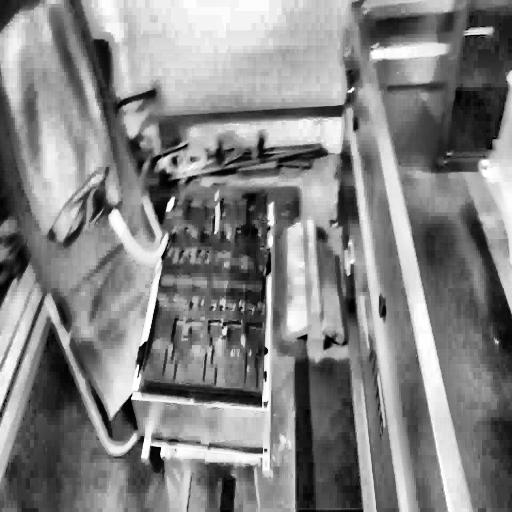b_casing: (140, 189, 269, 397)
